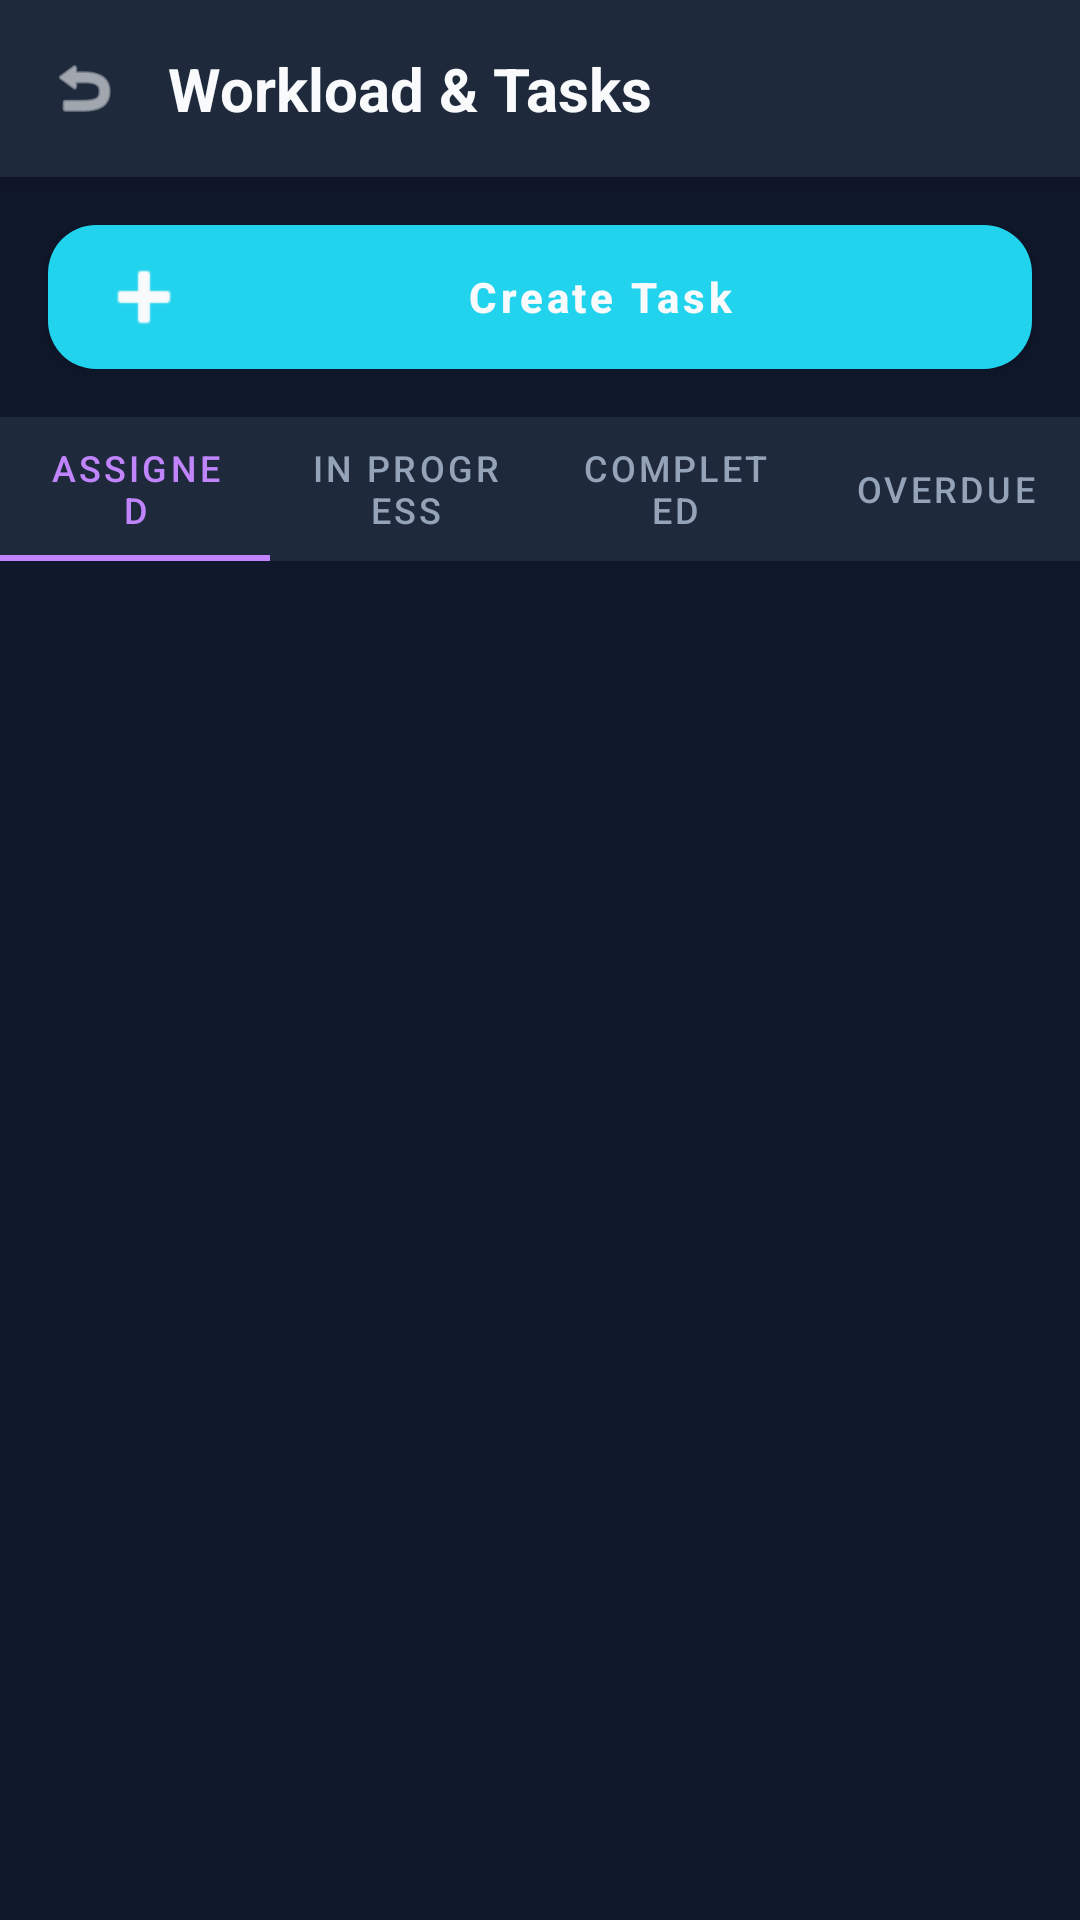

Point at icon controls on the screen. Image size 1080px x 1920px, points as [x,y].
revert: [85,88]
